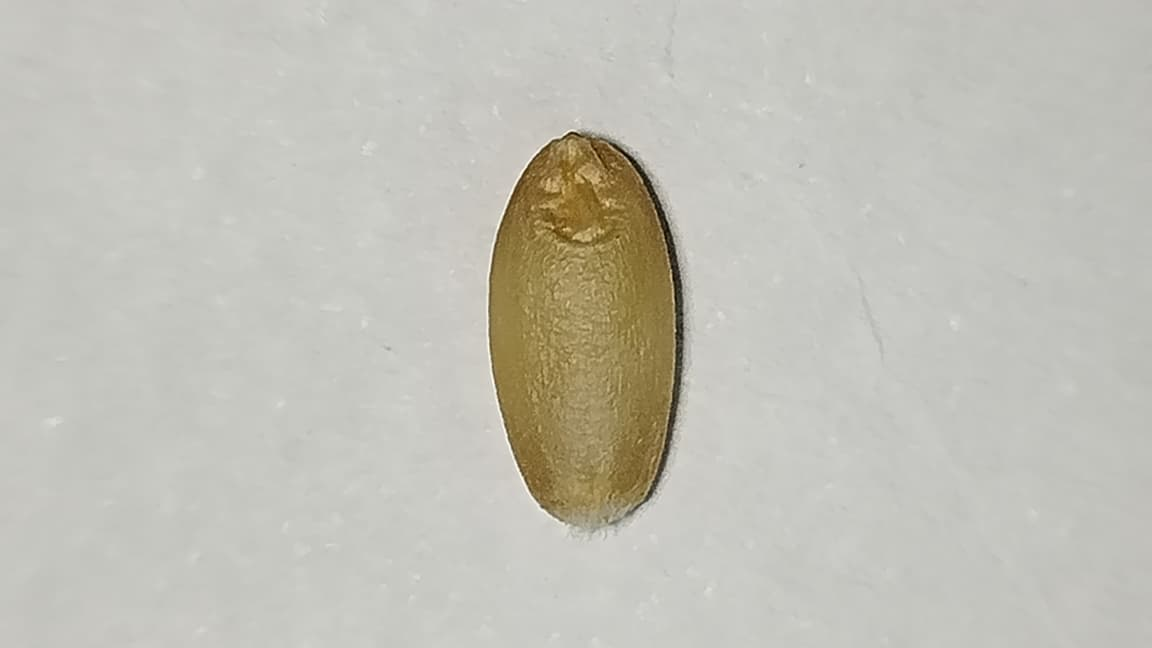healthy: (488, 132, 683, 531)
